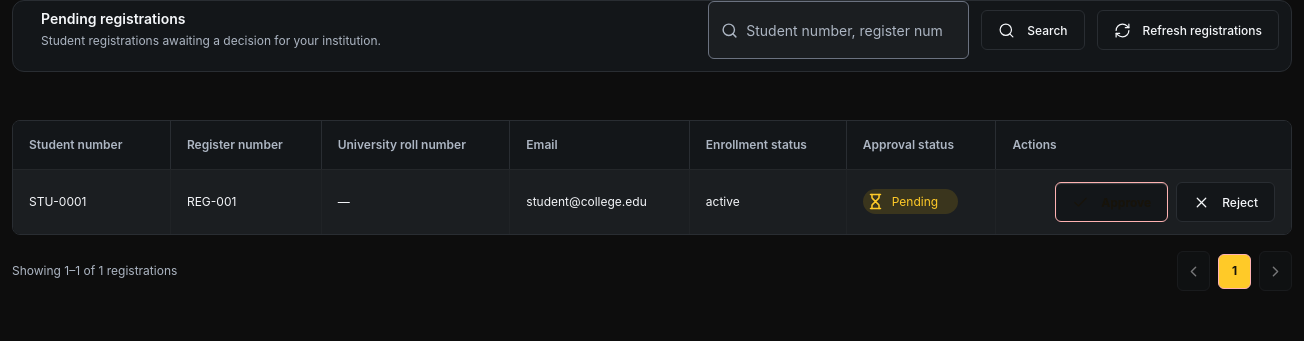
StaffApprovals decisions › rejects a student and removes the row from the queue
The width and height of the screenshot is (1304, 341).
Expected: the text "STU-0001" is shown, [13,169,171,234]
Click the button "Reject" at (1226, 202), box [1176,182,1275,222]
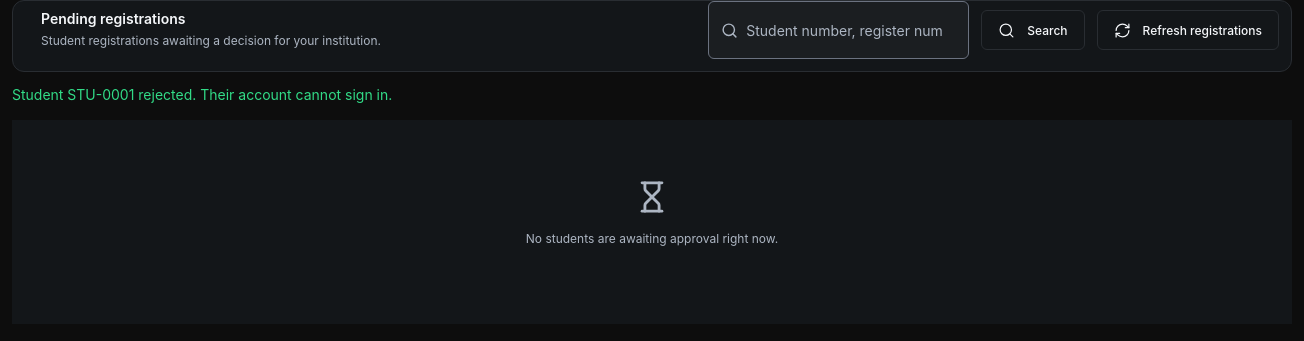
Now the text "No students are awaiting approval right now." is shown, box [526,231,778,246]
